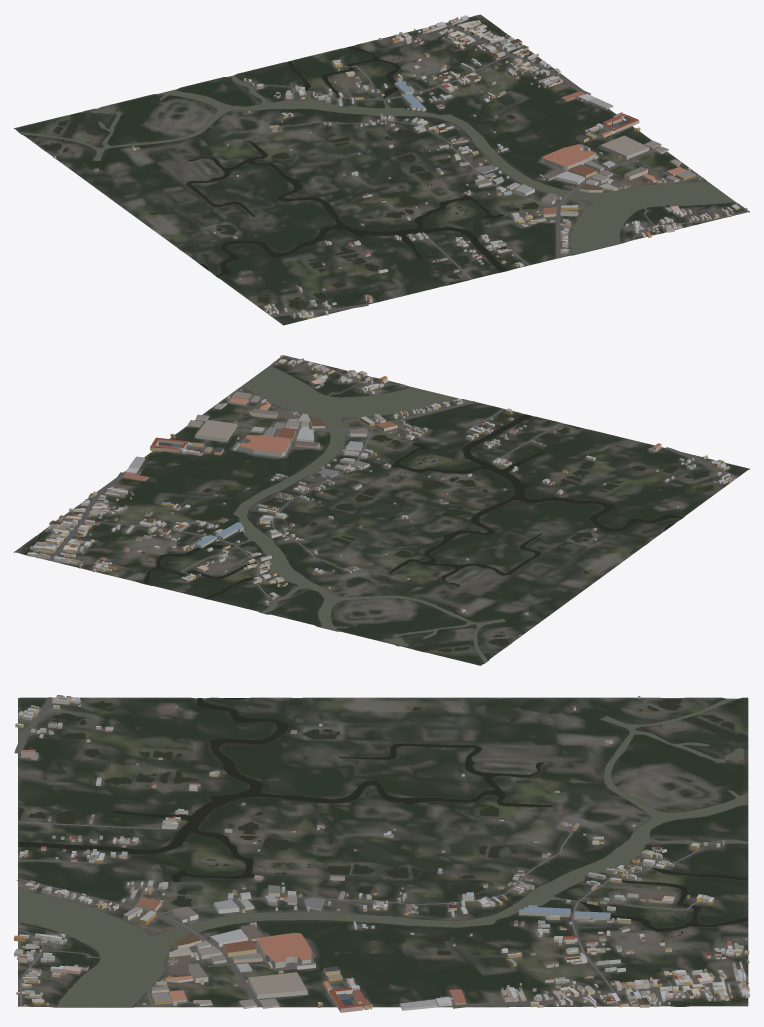
The picture shows the model from 3 angles, top to bottom: view 1: azimuth 30°, elevation 25°; view 2: azimuth 150°, elevation 25°; view 3: azimuth 270°, elevation 25°; orthographic projection. The views are drawn at different scales.
Parts seen in each view (by area): view 1: ground, water, buildings, roads; view 2: ground, water, buildings, roads; view 3: ground, water, buildings, roads.
Boxes of the visible parts, bbox=[...] form: ground: bbox=[14, 14, 749, 325]; water: bbox=[18, 17, 734, 309]; buildings: bbox=[53, 15, 747, 318]; roads: bbox=[263, 22, 748, 317]; ground: bbox=[14, 355, 749, 665]; water: bbox=[24, 366, 714, 663]; buildings: bbox=[27, 355, 735, 636]; roads: bbox=[48, 355, 738, 597]; ground: bbox=[18, 697, 748, 1007]; water: bbox=[18, 698, 748, 1006]; buildings: bbox=[14, 695, 749, 1012]; roads: bbox=[14, 697, 748, 1008].
Size of the model in its own units: 1427 by 17.61 by 1411.
